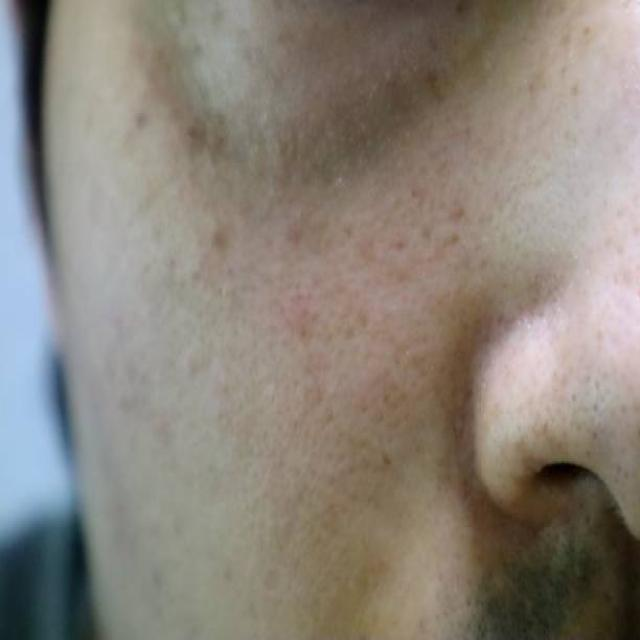Dry-Skin: (80, 66, 247, 420), (294, 132, 508, 387), (299, 418, 511, 574), (149, 448, 266, 629), (299, 27, 452, 154), (542, 12, 640, 207)
